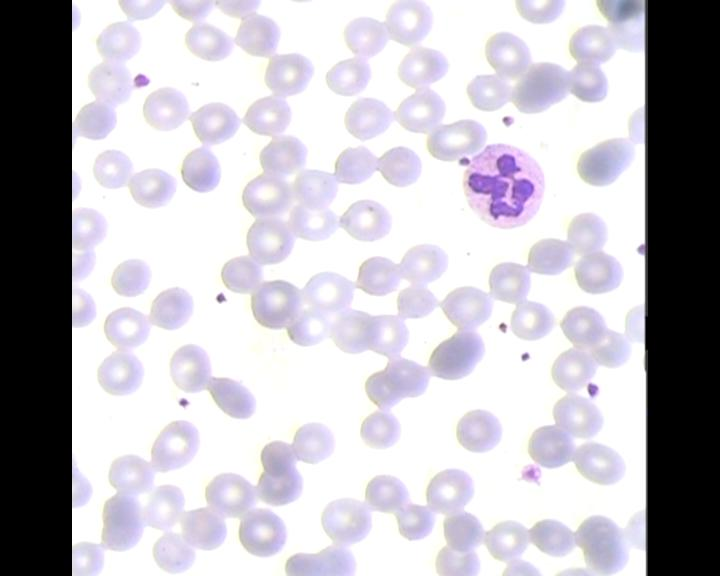neut: (456, 142, 549, 230)
